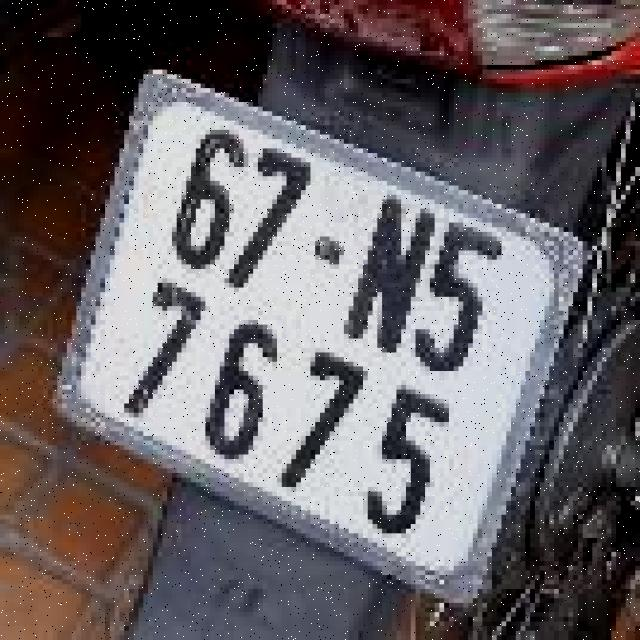5: (339, 368, 470, 554), (397, 207, 522, 400)
6: (181, 305, 300, 477), (156, 114, 259, 288)
7: (256, 329, 383, 509), (212, 131, 325, 315), (104, 269, 222, 435)
N: (330, 175, 450, 369)
